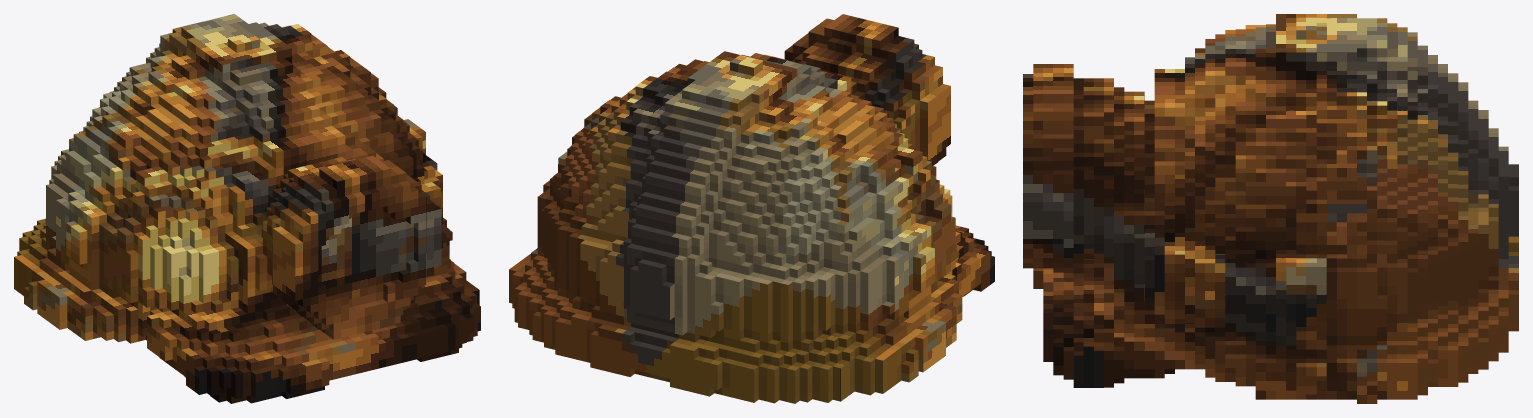
The model's file is mine-helmet-lamp.glb.
3 renders of one model, left to right at view 1: azimuth 30°, elevation 25°; view 2: azimuth 150°, elevation 25°; view 3: azimuth 270°, elevation 25°, orthographic. The views are drawn at different scales.
Parts seen in each view (by area): view 1: mine-helmet-lamp_voxels; view 2: mine-helmet-lamp_voxels; view 3: mine-helmet-lamp_voxels.
Part boxes in pixels (left/top/right/bottom): mine-helmet-lamp_voxels: left=14, top=14, right=480, bottom=403; mine-helmet-lamp_voxels: left=509, top=14, right=994, bottom=403; mine-helmet-lamp_voxels: left=1023, top=14, right=1518, bottom=403.
Size of the model in its own units: 1 by 0.6531 by 1.
Materials: 1 (1 with a texture image).
